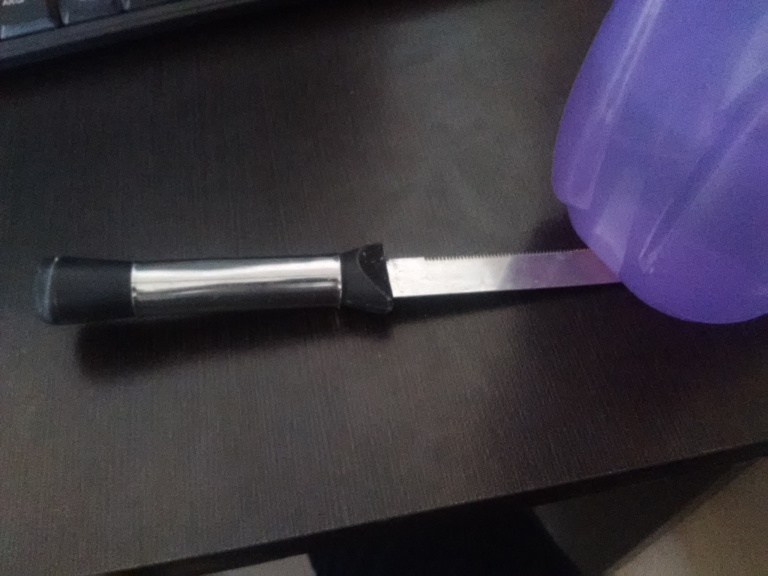knife: (31, 237, 614, 332)
